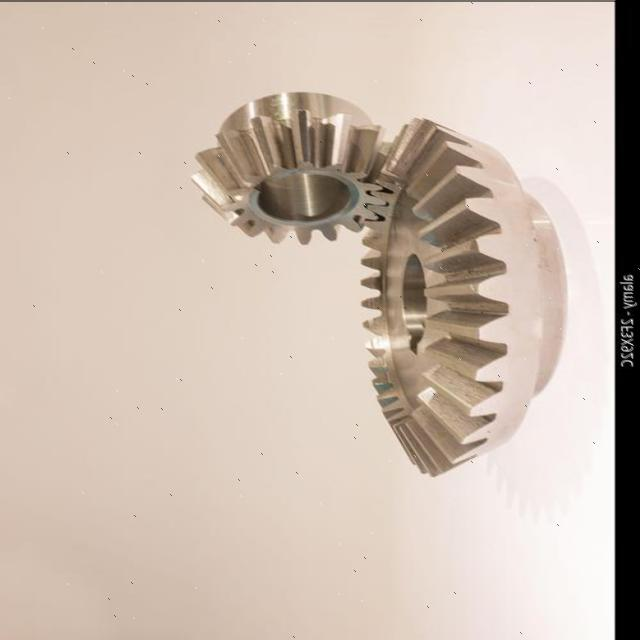Gear: (354, 105, 568, 478), (180, 84, 394, 245)
